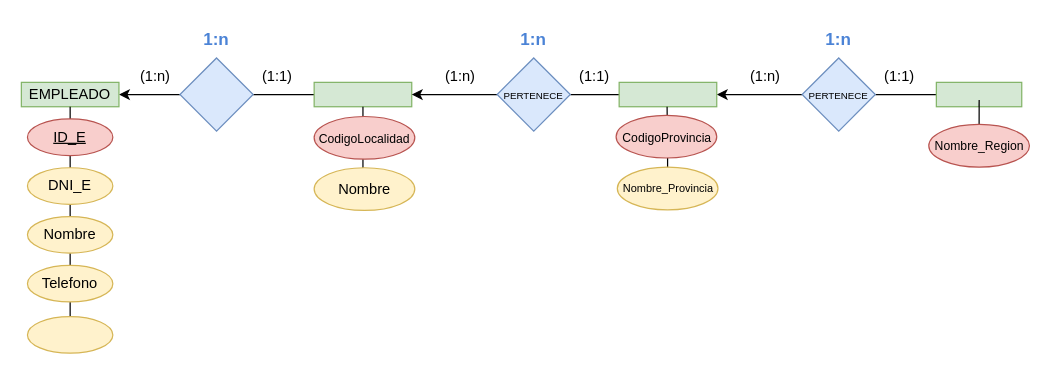
Some shapes in this 1052 by 375 pixel diagram are drawn without their labels. Each missing label, with the box of its shape:
LOCALIDAD: (313, 81, 412, 107)
NACE: (179, 57, 253, 131)
PROVINCIA: (618, 81, 717, 107)
REGION: (935, 81, 1022, 107)
Salario: (26, 315, 113, 353)
